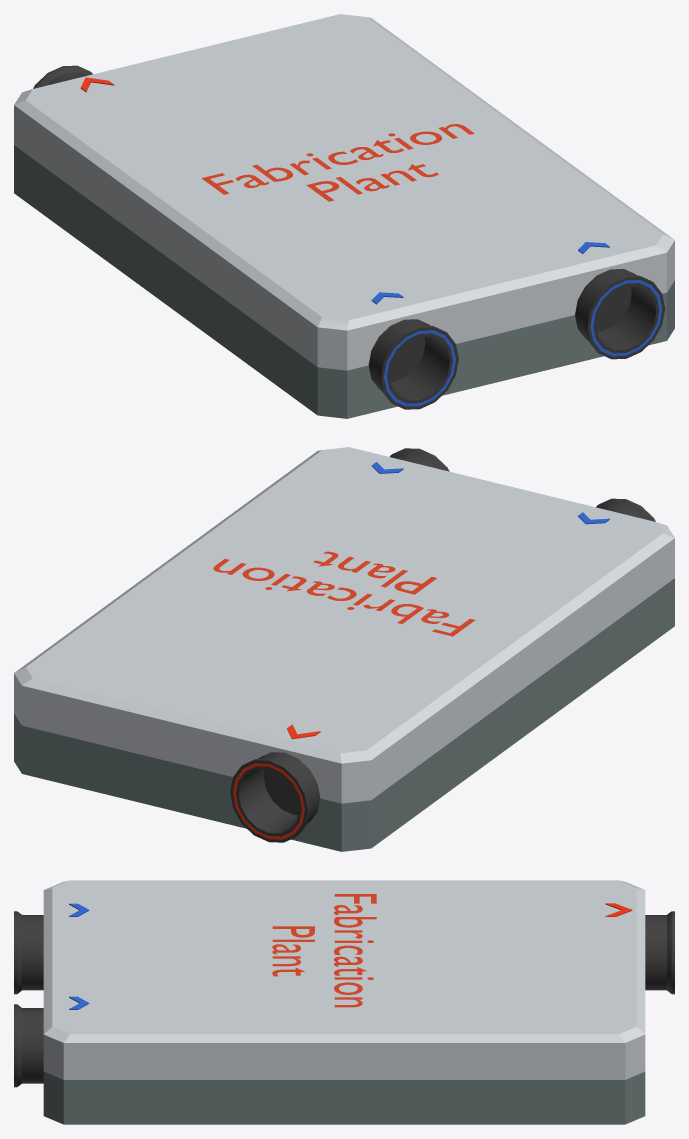
File: FabricationPlant.fbx
The picture shows the model from 3 angles, top to bottom: view 1: azimuth 30°, elevation 25°; view 2: azimuth 150°, elevation 25°; view 3: azimuth 270°, elevation 25°; orthographic projection. The views are drawn at different scales.
Parts seen in each view (by area): view 1: Fabrication Plant; view 2: Fabrication Plant; view 3: Fabrication Plant.
Boxes of the visible parts, x1,y1,x2,y2 form: Fabrication Plant: (14,14,674,418); Fabrication Plant: (14,447,674,851); Fabrication Plant: (14,880,674,1124).
Bounding box in the file's own units: 173 × 46.59 × 300.
